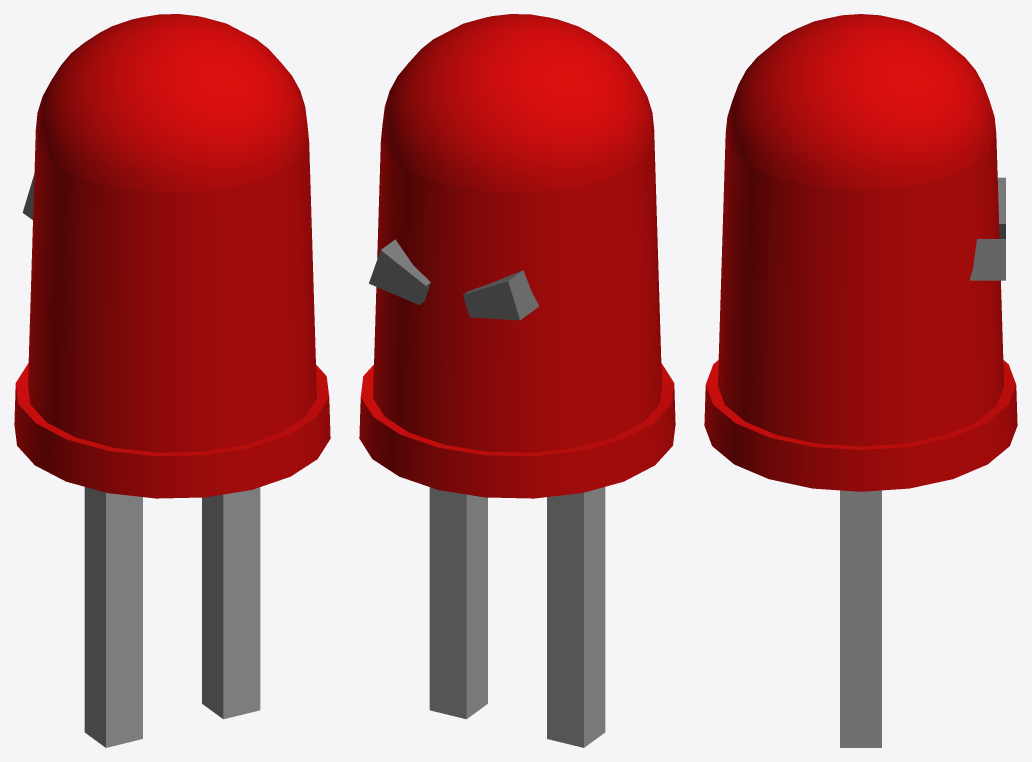
The model's file is LED_Maya.fbx.
3 renders of one model, left to right at view 1: azimuth 30°, elevation 25°; view 2: azimuth 150°, elevation 25°; view 3: azimuth 270°, elevation 25°, orthographic.
Visible parts, largest first — view 1: pCylinder4, pCube4; view 2: pCylinder4, pCube4, polySurface3; view 3: pCylinder4, pCube4, polySurface3.
Boxes of the visible parts, x1,y1,x2,y2 form: pCylinder4: (14, 14, 330, 498); pCube4: (84, 487, 260, 747); pCylinder4: (359, 14, 675, 498); pCube4: (429, 487, 605, 747); polySurface3: (369, 239, 539, 320); pCylinder4: (704, 14, 1017, 491); pCube4: (840, 490, 881, 747); polySurface3: (969, 177, 1005, 280).
Size of the model in its own units: 2.31 by 5.56 by 2.31.
